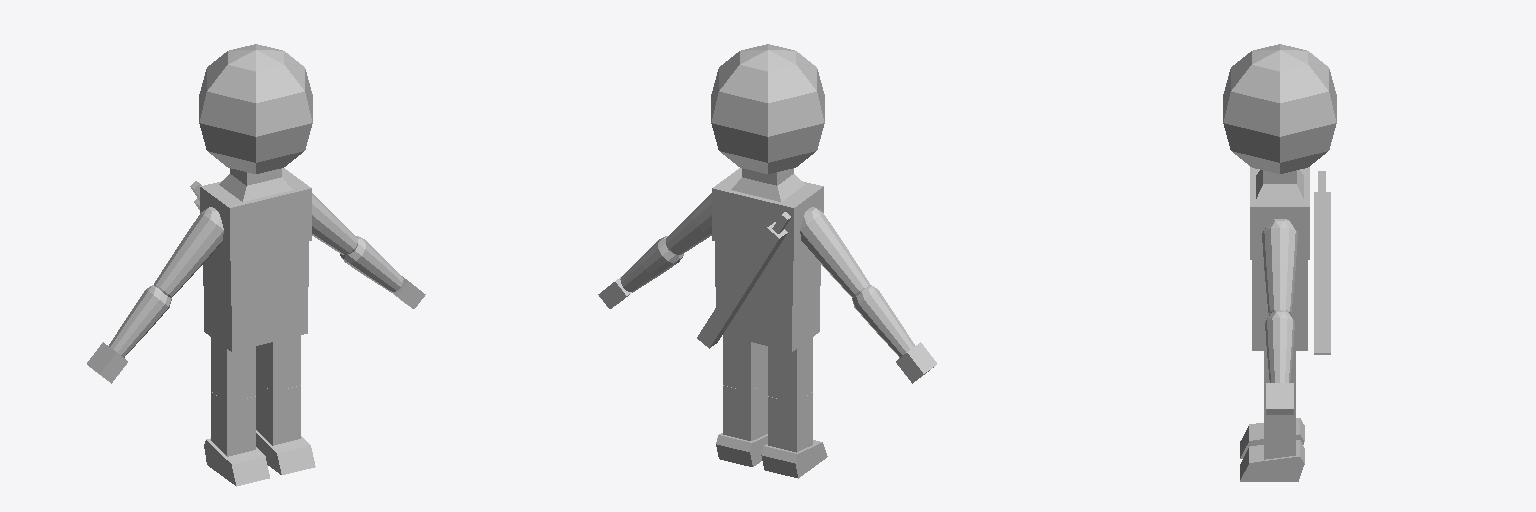
The model's file is boy.obj.
The picture shows the model from 3 angles: view 1: azimuth 30°, elevation 25°; view 2: azimuth 150°, elevation 25°; view 3: azimuth 270°, elevation 25°; orthographic projection.
Parts seen in each view (by area): view 1: head_Sphere.004, chest_Cube.010, lower_torso_Cube.008, uper_torso_Cube.009, right_uper_arm_Sphere, left_lower_leg_Cube.003, right_lower_leg_Cube.006, right_uper_leg_Cube.007, left_uper_leg_Cube, right_lower_arm_Sphere.001, right_foot_Cube.005, neck_Cube.013 (+4 smaller); view 2: head_Sphere.004, chest_Cube.010, lower_torso_Cube.008, uper_torso_Cube.009, sword_Cube.014, right_uper_arm_Sphere, right_uper_leg_Cube.007, left_lower_leg_Cube.003, right_lower_leg_Cube.006, left_uper_leg_Cube, right_lower_arm_Sphere.001, neck_Cube.013 (+5 smaller); view 3: head_Sphere.004, sword_Cube.014, left_uper_arm_Sphere.003, chest_Cube.010, left_foot_Cube.004, left_lower_arm_Sphere.002, left_lower_leg_Cube.003, lower_torso_Cube.008, neck_Cube.013, uper_torso_Cube.009, left_hand_Cube.012, right_foot_Cube.005.
Boxes of the visible parts, x1,y1,x2,y2 form: head_Sphere.004: [199, 44, 312, 173]; chest_Cube.010: [200, 168, 311, 260]; lower_torso_Cube.008: [204, 287, 307, 351]; uper_torso_Cube.009: [203, 242, 308, 305]; right_uper_arm_Sphere: [154, 207, 223, 297]; left_lower_leg_Cube.003: [256, 380, 300, 445]; right_lower_leg_Cube.006: [211, 392, 255, 456]; right_uper_leg_Cube.007: [211, 337, 255, 402]; left_uper_leg_Cube: [256, 335, 300, 391]; right_lower_arm_Sphere.001: [109, 285, 171, 357]; right_foot_Cube.005: [204, 438, 269, 486]; neck_Cube.013: [219, 168, 292, 201]; head_Sphere.004: [711, 44, 824, 173]; chest_Cube.010: [712, 168, 823, 260]; lower_torso_Cube.008: [716, 287, 819, 351]; uper_torso_Cube.009: [715, 242, 820, 305]; sword_Cube.014: [697, 212, 791, 348]; right_uper_arm_Sphere: [800, 207, 869, 297]; right_uper_leg_Cube.007: [768, 337, 812, 402]; left_lower_leg_Cube.003: [723, 380, 767, 440]; right_lower_leg_Cube.006: [768, 392, 812, 452]; left_uper_leg_Cube: [723, 335, 767, 391]; right_lower_arm_Sphere.001: [852, 285, 914, 357]; neck_Cube.013: [731, 168, 804, 201]; head_Sphere.004: [1223, 44, 1336, 173]; sword_Cube.014: [1314, 171, 1330, 354]; left_uper_arm_Sphere.003: [1262, 219, 1297, 314]; chest_Cube.010: [1250, 167, 1309, 259]; left_foot_Cube.004: [1240, 440, 1304, 481]; left_lower_arm_Sphere.002: [1265, 311, 1294, 382]; left_lower_leg_Cube.003: [1264, 406, 1295, 459]; lower_torso_Cube.008: [1252, 305, 1307, 350]; neck_Cube.013: [1256, 170, 1303, 199]; uper_torso_Cube.009: [1252, 260, 1307, 304]; left_hand_Cube.012: [1266, 383, 1293, 414]; right_foot_Cube.005: [1240, 418, 1304, 458].
Size of the model in its own units: 5.74 by 6.94 by 1.73.